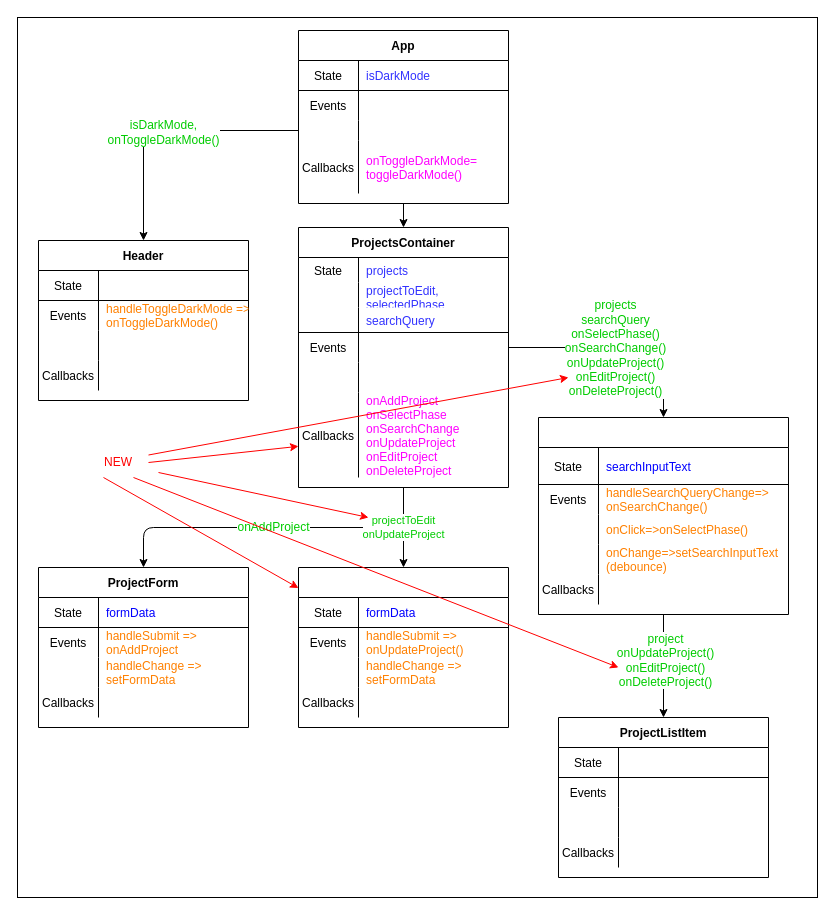
This 835x915 diagram has some shape labels left out. The box of each missing label's shape, as (x1, y1, x2, y2) in pixels:
ProjectEditForm: (298, 566, 508, 728)
ProjectList: (538, 416, 788, 614)
